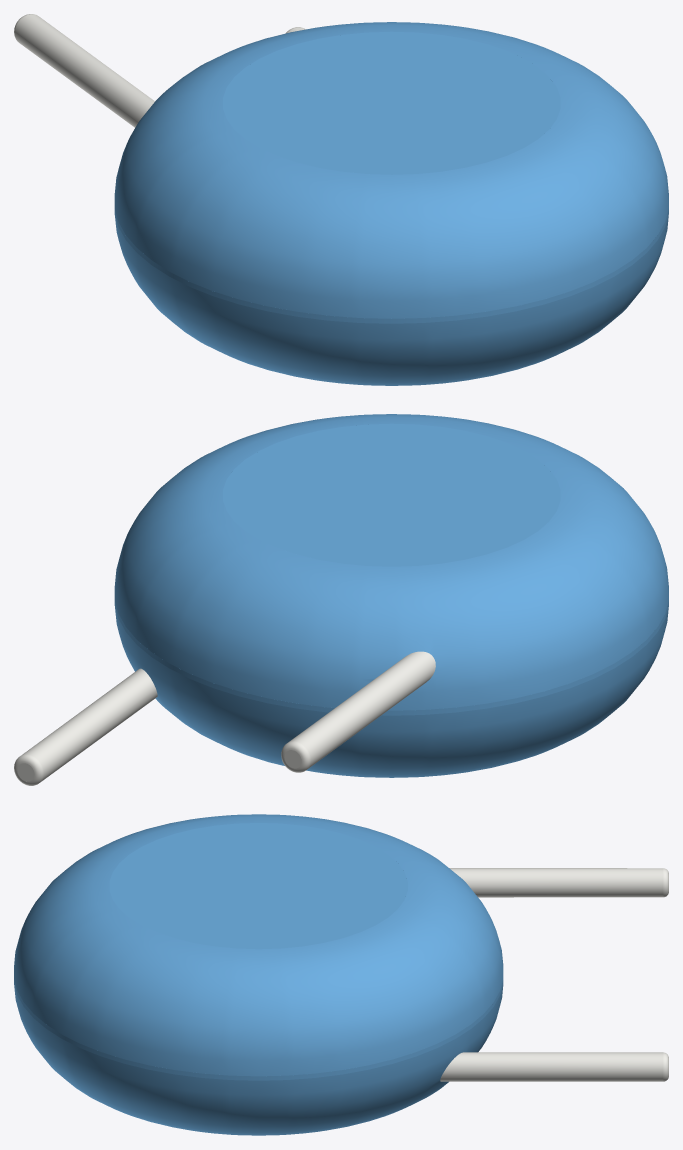
File: RV_Disc_D9mm_W3.6mm_P5mm.glb
3 renders of one model, top to bottom at view 1: azimuth 30°, elevation 25°; view 2: azimuth 150°, elevation 25°; view 3: azimuth 270°, elevation 25°, orthographic. The views are drawn at different scales.
Parts seen in each view (by area): view 1: Shape_IndexedFaceSet.001, Shape_IndexedFaceSet.003, Shape_IndexedFaceSet.002, Shape_IndexedFaceSet.004, Shape_IndexedFaceSet; view 2: Shape_IndexedFaceSet.001, Shape_IndexedFaceSet.003, Shape_IndexedFaceSet.002, Shape_IndexedFaceSet.004, Shape_IndexedFaceSet.006, Shape_IndexedFaceSet; view 3: Shape_IndexedFaceSet.001, Shape_IndexedFaceSet.003, Shape_IndexedFaceSet.002, Shape_IndexedFaceSet.006, Shape_IndexedFaceSet.004, Shape_IndexedFaceSet.
Part boxes in pixels (x1=…): Shape_IndexedFaceSet.001: x1=114, y1=22, x2=668, y2=318; Shape_IndexedFaceSet.003: x1=223, y1=31, x2=560, y2=174; Shape_IndexedFaceSet.002: x1=114, y1=214, x2=668, y2=385; Shape_IndexedFaceSet.004: x1=15, y1=14, x2=154, y2=127; Shape_IndexedFaceSet: x1=114, y1=209, x2=668, y2=323; Shape_IndexedFaceSet.001: x1=114, y1=414, x2=668, y2=710; Shape_IndexedFaceSet.003: x1=223, y1=423, x2=560, y2=566; Shape_IndexedFaceSet.002: x1=114, y1=605, x2=668, y2=777; Shape_IndexedFaceSet.004: x1=288, y1=651, x2=435, y2=768; Shape_IndexedFaceSet.006: x1=21, y1=668, x2=157, y2=781; Shape_IndexedFaceSet: x1=114, y1=600, x2=668, y2=715; Shape_IndexedFaceSet.001: x1=14, y1=814, x2=503, y2=1076; Shape_IndexedFaceSet.003: x1=109, y1=823, x2=407, y2=949; Shape_IndexedFaceSet.002: x1=14, y1=984, x2=503, y2=1135; Shape_IndexedFaceSet.006: x1=440, y1=1052, x2=663, y2=1081; Shape_IndexedFaceSet.004: x1=449, y1=868, x2=663, y2=897; Shape_IndexedFaceSet: x1=14, y1=979, x2=503, y2=1080.
Bounding box in the file's own units: 3.54 × 1.42 × 4.73.
